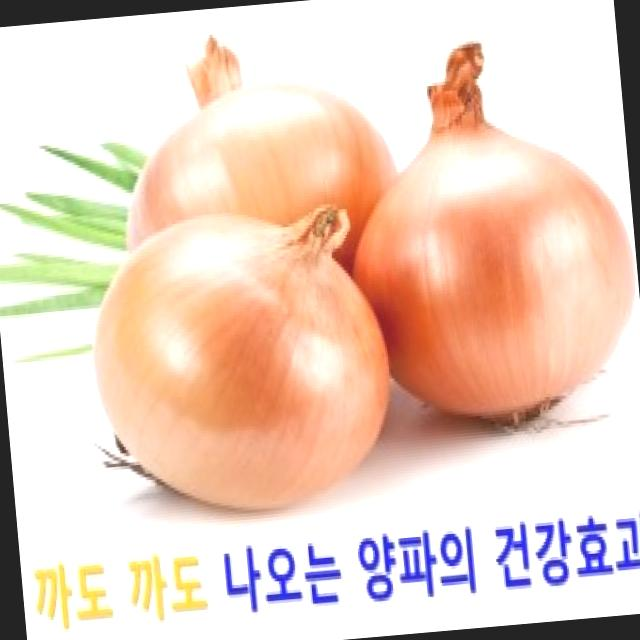onion: (352, 52, 640, 483), (62, 198, 396, 554), (109, 23, 404, 284)
